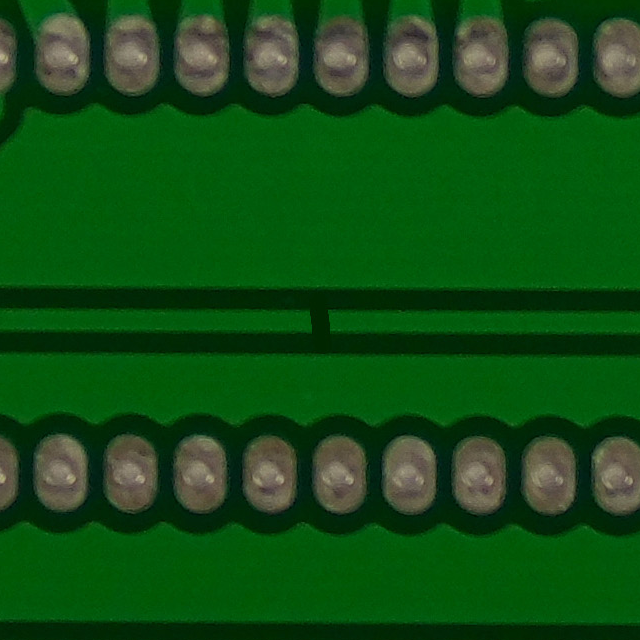open_circuit: (294, 295, 346, 345)
